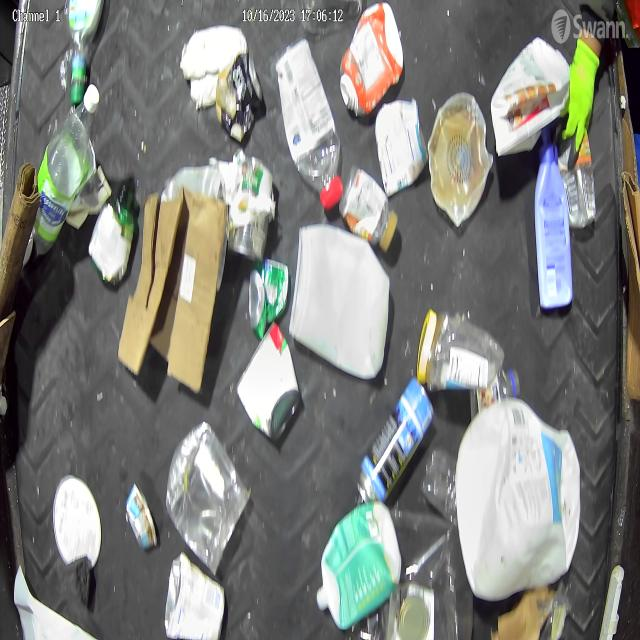can: (241, 338, 299, 435), (377, 95, 430, 193), (217, 48, 265, 141), (228, 159, 271, 245), (244, 259, 288, 332)
milk_jug: (459, 395, 577, 597), (297, 227, 385, 375), (495, 38, 572, 162)
non_white_jug: (315, 500, 404, 625), (337, 0, 403, 109)
plastic_bottle: (276, 32, 340, 201), (38, 80, 100, 251), (420, 311, 506, 394), (567, 132, 596, 234)
